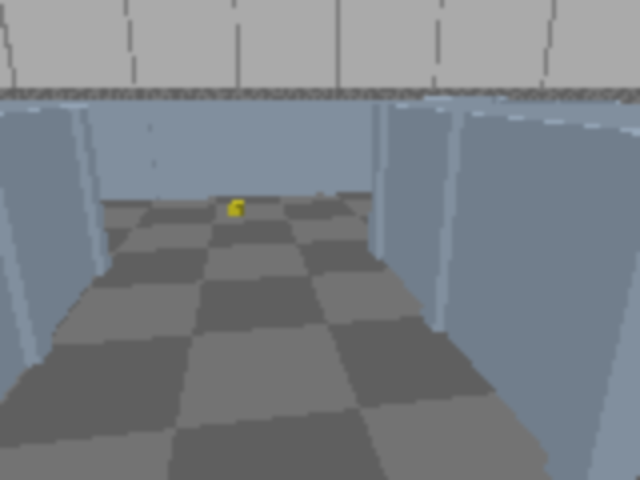puck: (228, 200, 246, 216)
